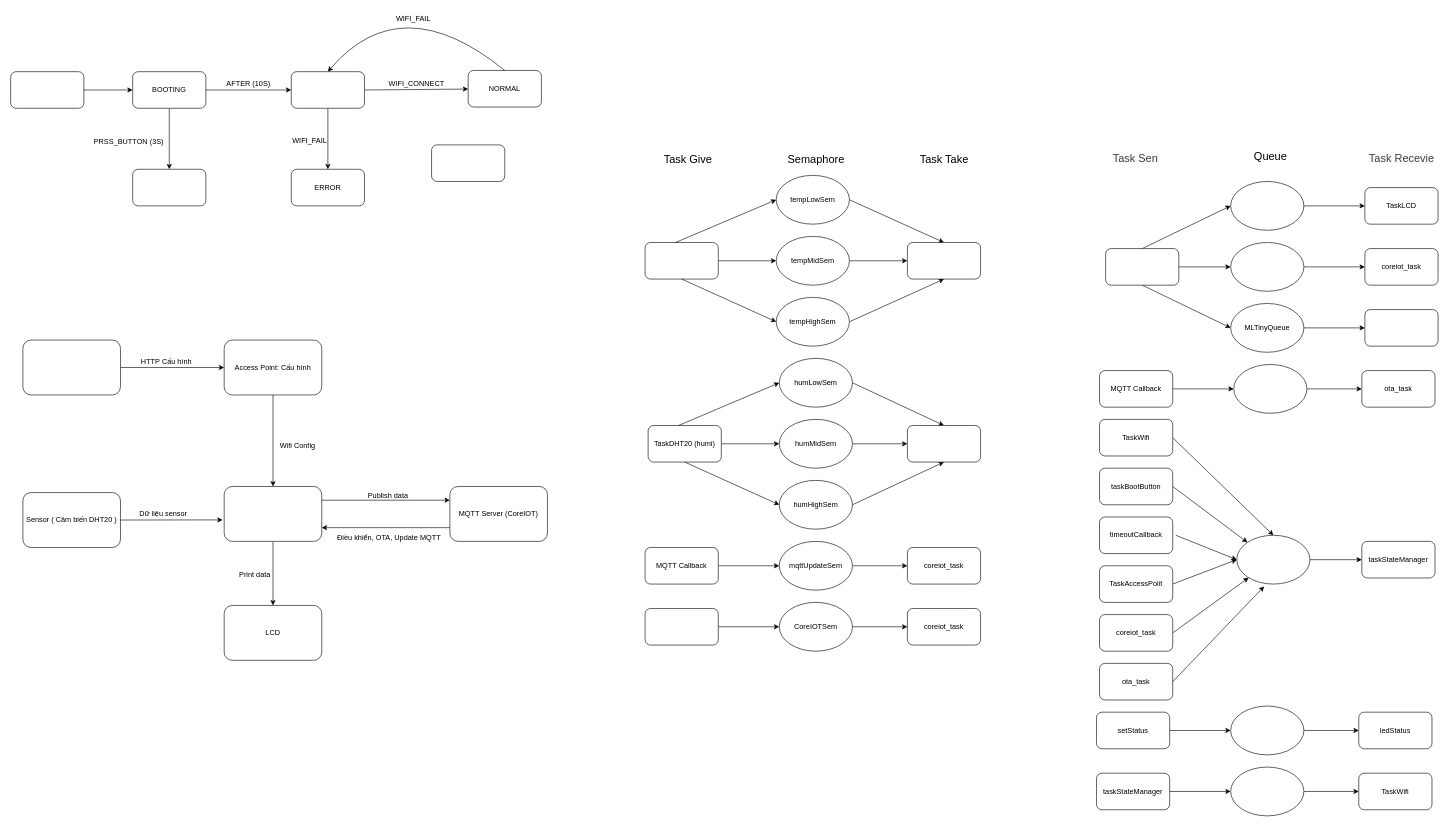
Image size: 1449x827. Some labels were removed from this diagram. The box of each missing label's shape, as (x1, y1, x2, y2) in pixels:
AP_MODE: (132, 169, 206, 206)
CONNECTING: (291, 71, 364, 108)
CoreIOTQueue: (1230, 242, 1304, 291)
ESP32S3: (224, 486, 322, 541)
INIT: (10, 71, 84, 108)
lcdQueue: (1230, 181, 1304, 230)
ledQueue: (1230, 705, 1304, 755)
Người dùng: (22, 339, 120, 395)
OTA_UPDATE: (431, 144, 505, 181)
oteQueue: (1233, 364, 1307, 413)
stateQueue: (1236, 535, 1310, 584)
TaskBlink: (907, 242, 981, 279)
TaskDHT20: (1105, 248, 1179, 285)
TaskDHT20 (temp): (644, 242, 718, 279)
TaskNeoPixel: (907, 425, 981, 462)
TaskTinyML: (1364, 309, 1438, 346)
Wifi_status: (644, 608, 718, 645)
wifiQueue: (1230, 766, 1304, 816)
